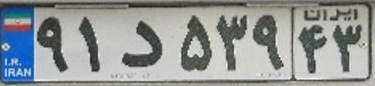character: (110, 13, 172, 75), (173, 13, 215, 75), (249, 9, 288, 75), (211, 10, 249, 77), (34, 12, 73, 76), (73, 12, 108, 78), (329, 21, 369, 77), (295, 21, 331, 77)
